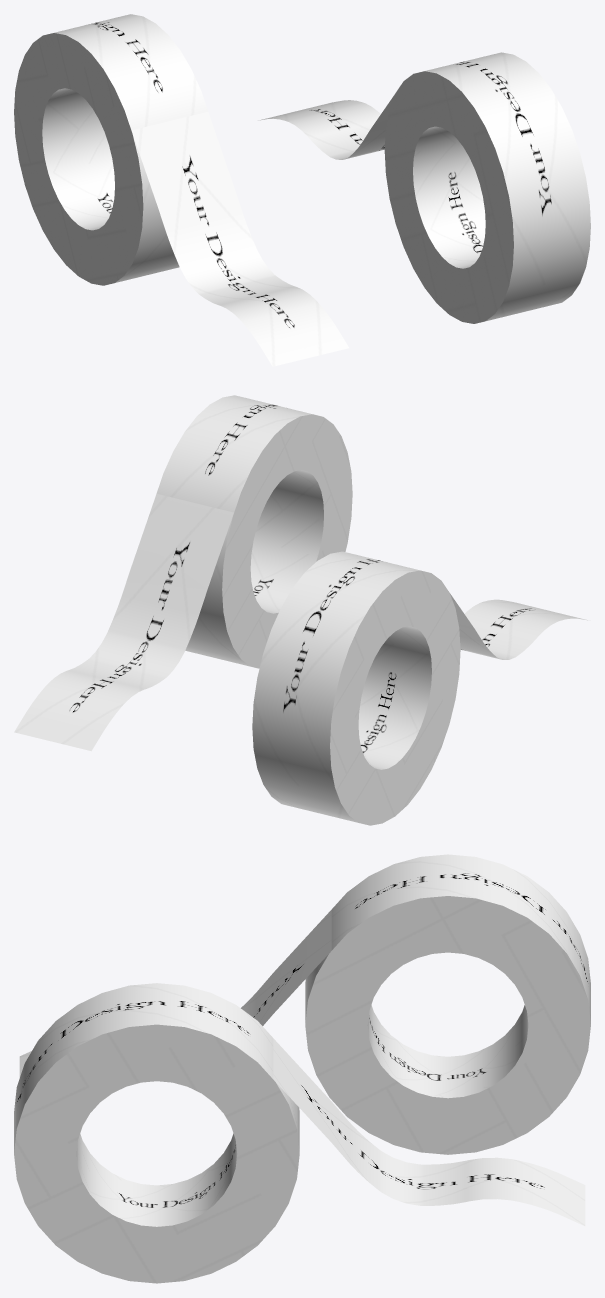
The model's file is Box_Tape A-2.glb.
3 renders of one model, top to bottom at view 1: azimuth 30°, elevation 25°; view 2: azimuth 150°, elevation 25°; view 3: azimuth 270°, elevation 25°, orthographic. The views are drawn at different scales.
Parts seen in each view (by area): view 1: Tape_roll, Tape_roll.001; view 2: Tape_roll.001, Tape_roll; view 3: Tape_roll.001, Tape_roll.
Boxes of the visible parts, box(x1,y1,x2,y2) form: Tape_roll: box(14, 14, 348, 366); Tape_roll.001: box(258, 52, 590, 323); Tape_roll.001: box(14, 395, 352, 751); Tape_roll: box(252, 551, 587, 825); Tape_roll.001: box(14, 983, 585, 1283); Tape_roll: box(19, 854, 590, 1154).
Bounding box in the file's own units: 0.0832 × 0.059 × 0.1192.
Materials: 1 (1 with a texture image).
